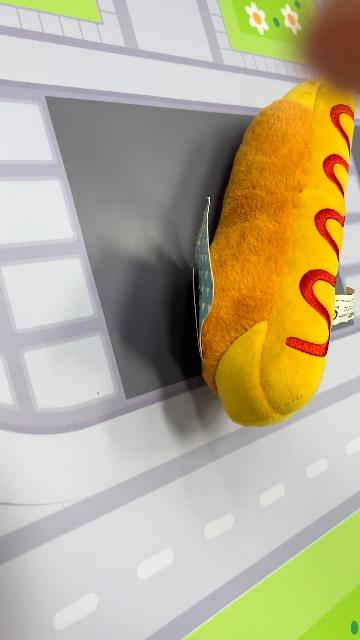hotdog: (197, 75, 357, 428)
